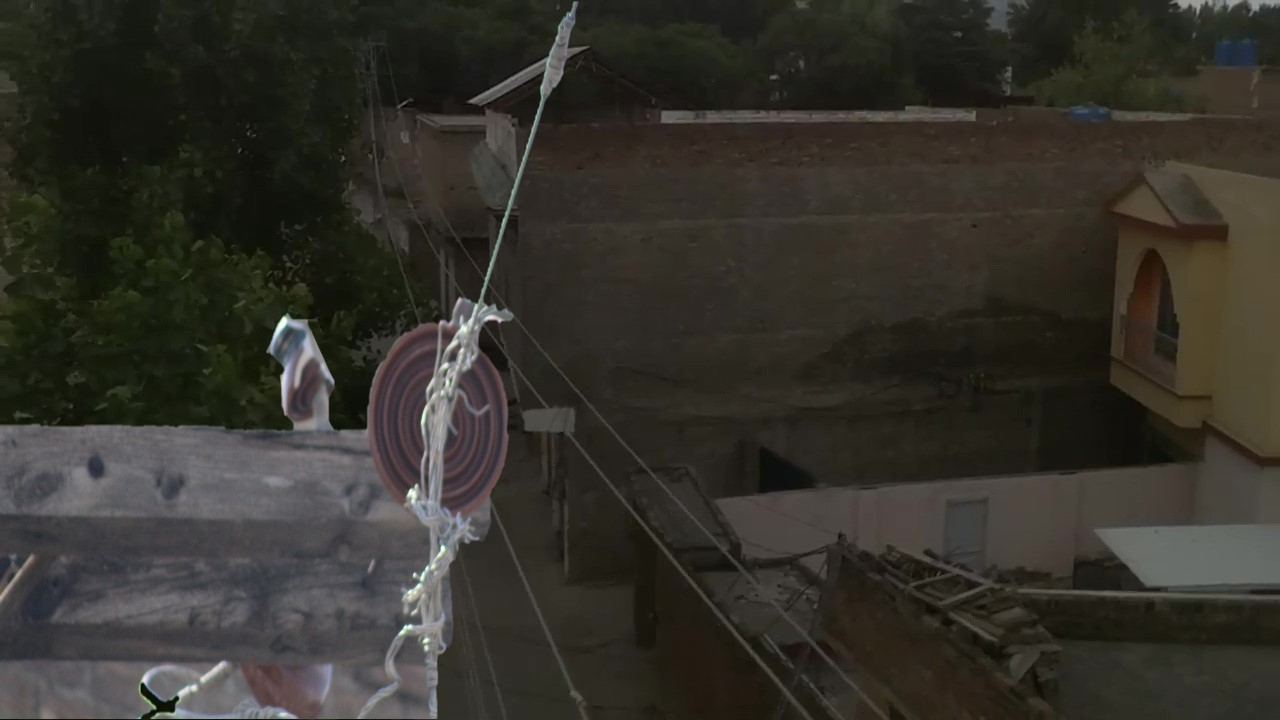defect_pin: (259, 304, 341, 422)
insulator_disc: (365, 316, 514, 526)
